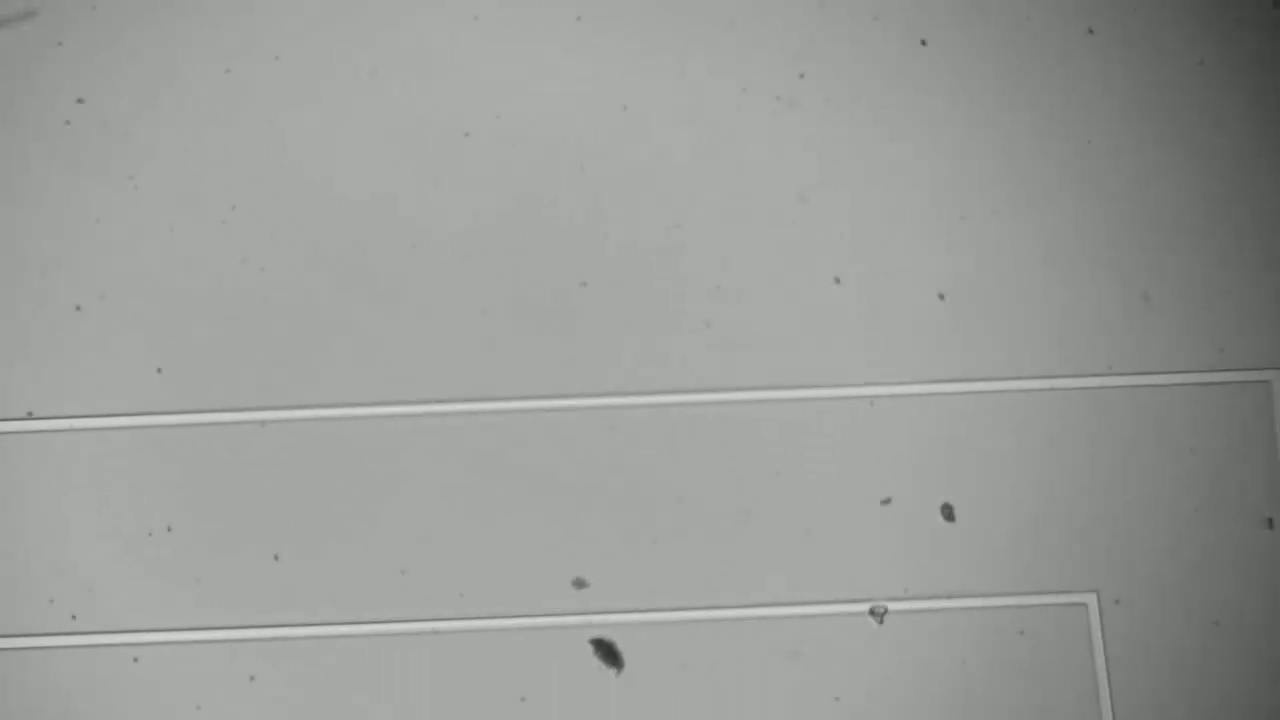stains_enbedded: (861, 592, 897, 627)
